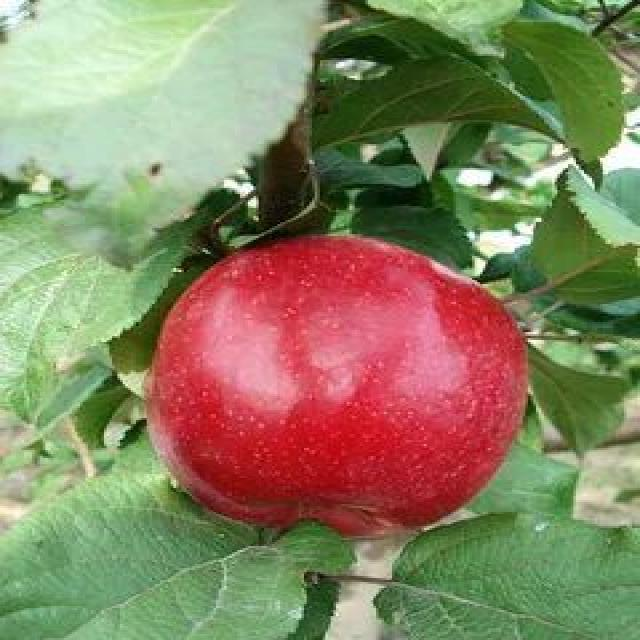Fresh Apple: (137, 238, 520, 518)
